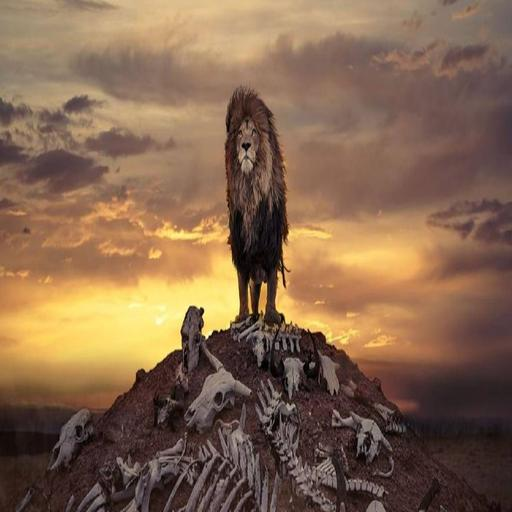Lion: (199, 87, 303, 332)
